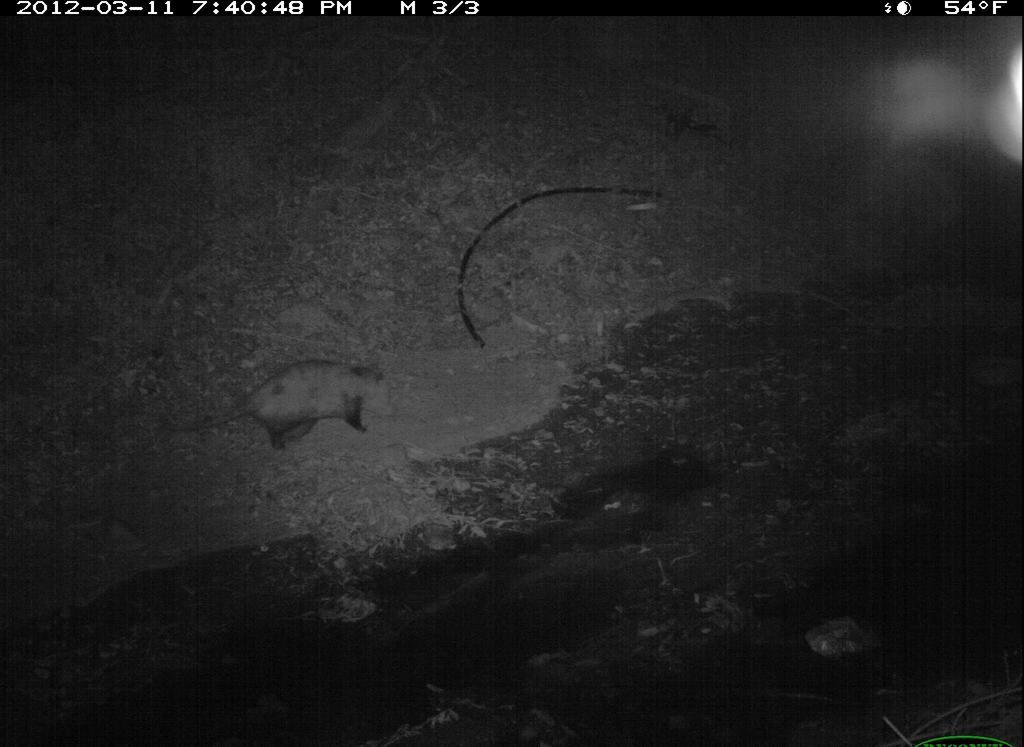opossum: (164, 355, 411, 461)
